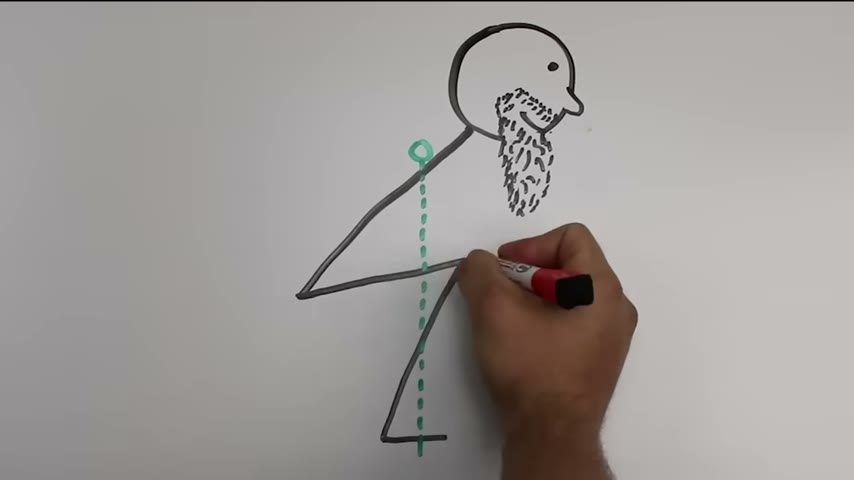barbell_plate_side: (534, 17, 591, 212)
